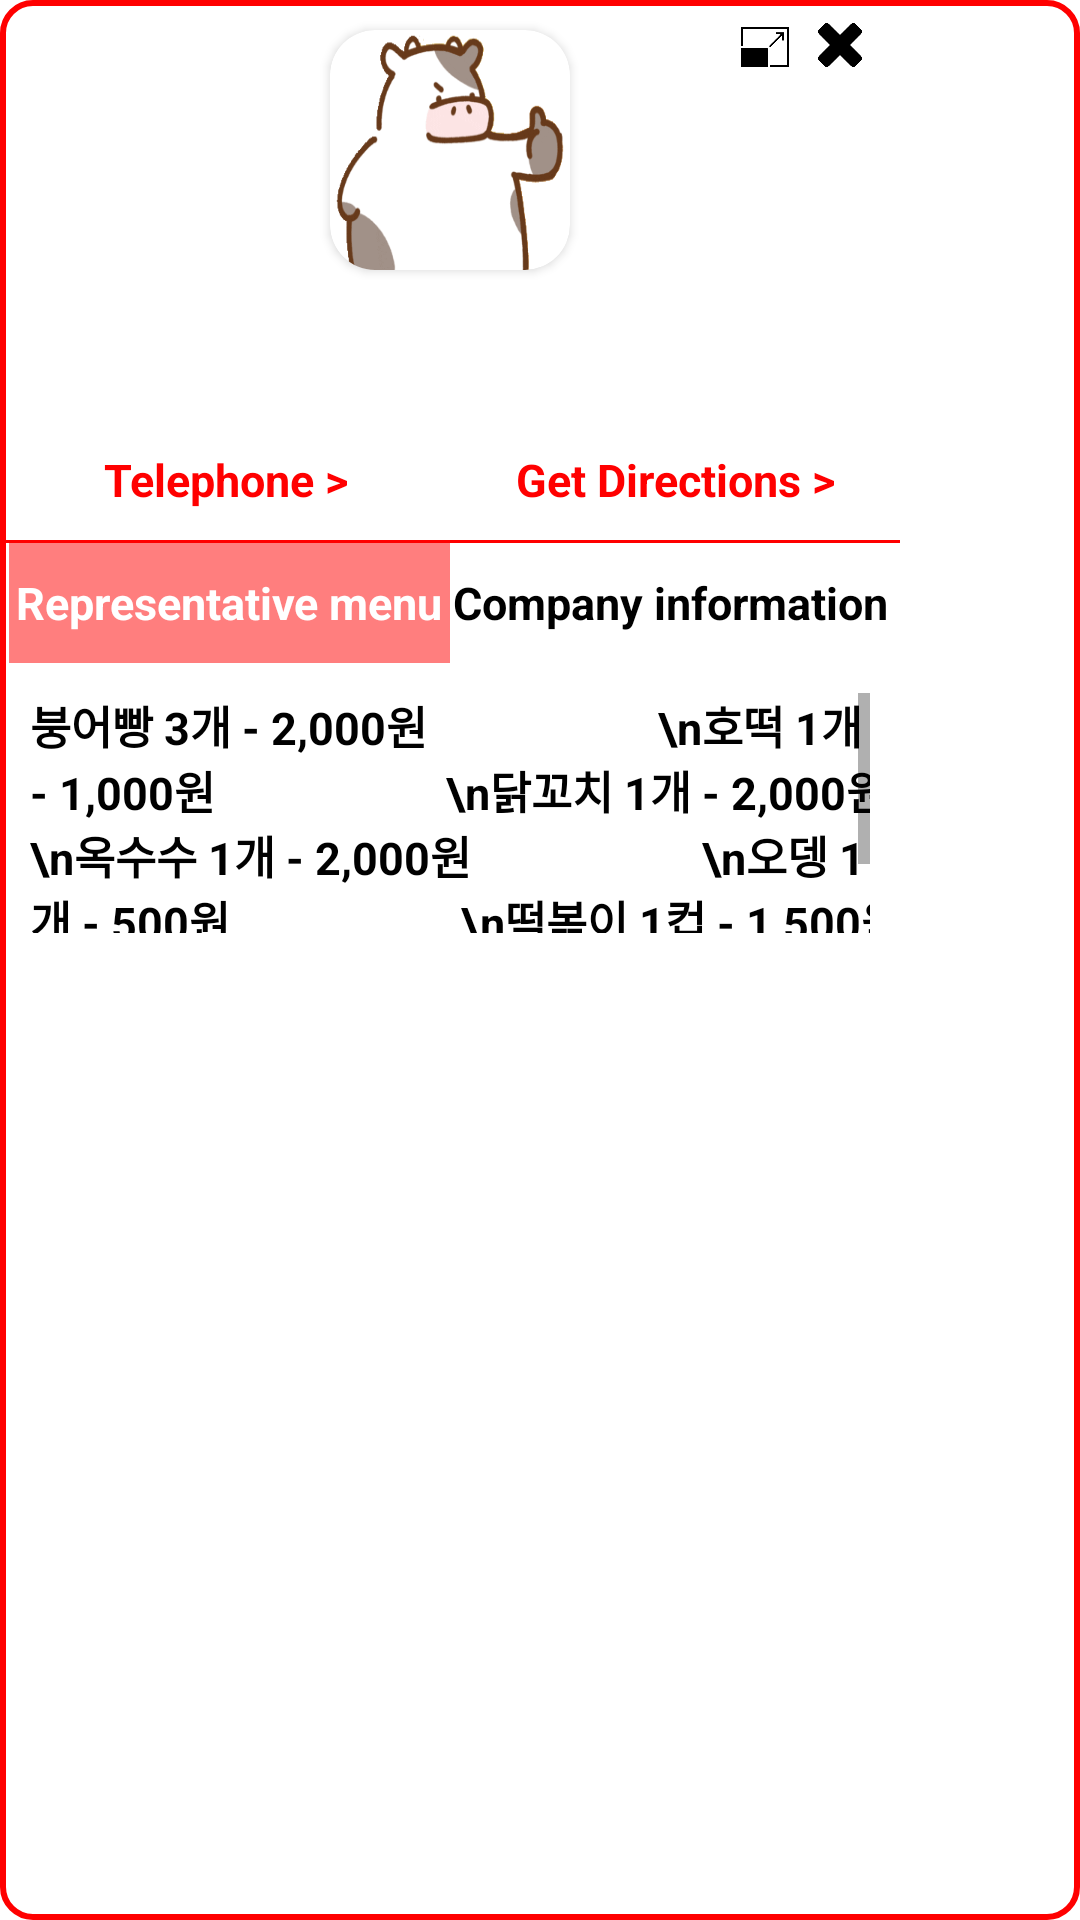

Point at icon controls on the screen. Image size 1080w x 1920h, points as (x,y).
appicon: (449,152)
close: (840,45)
popup minimap toggle: (765,47)
